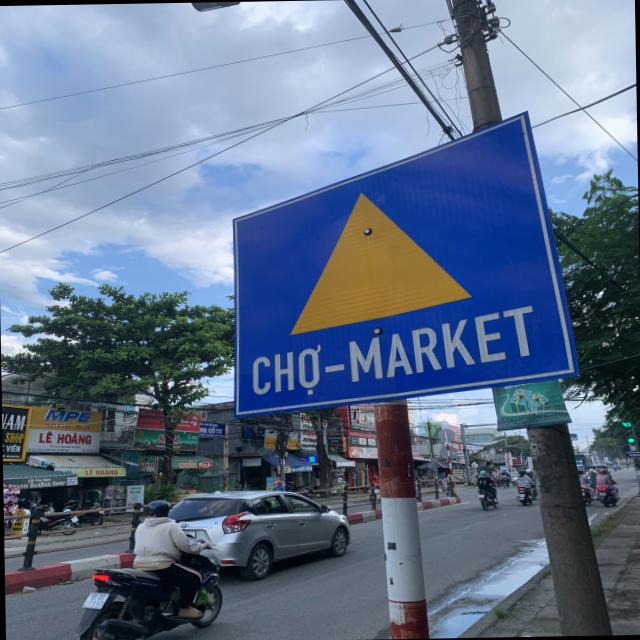Cho_Quay_Xe: (235, 120, 576, 414)
